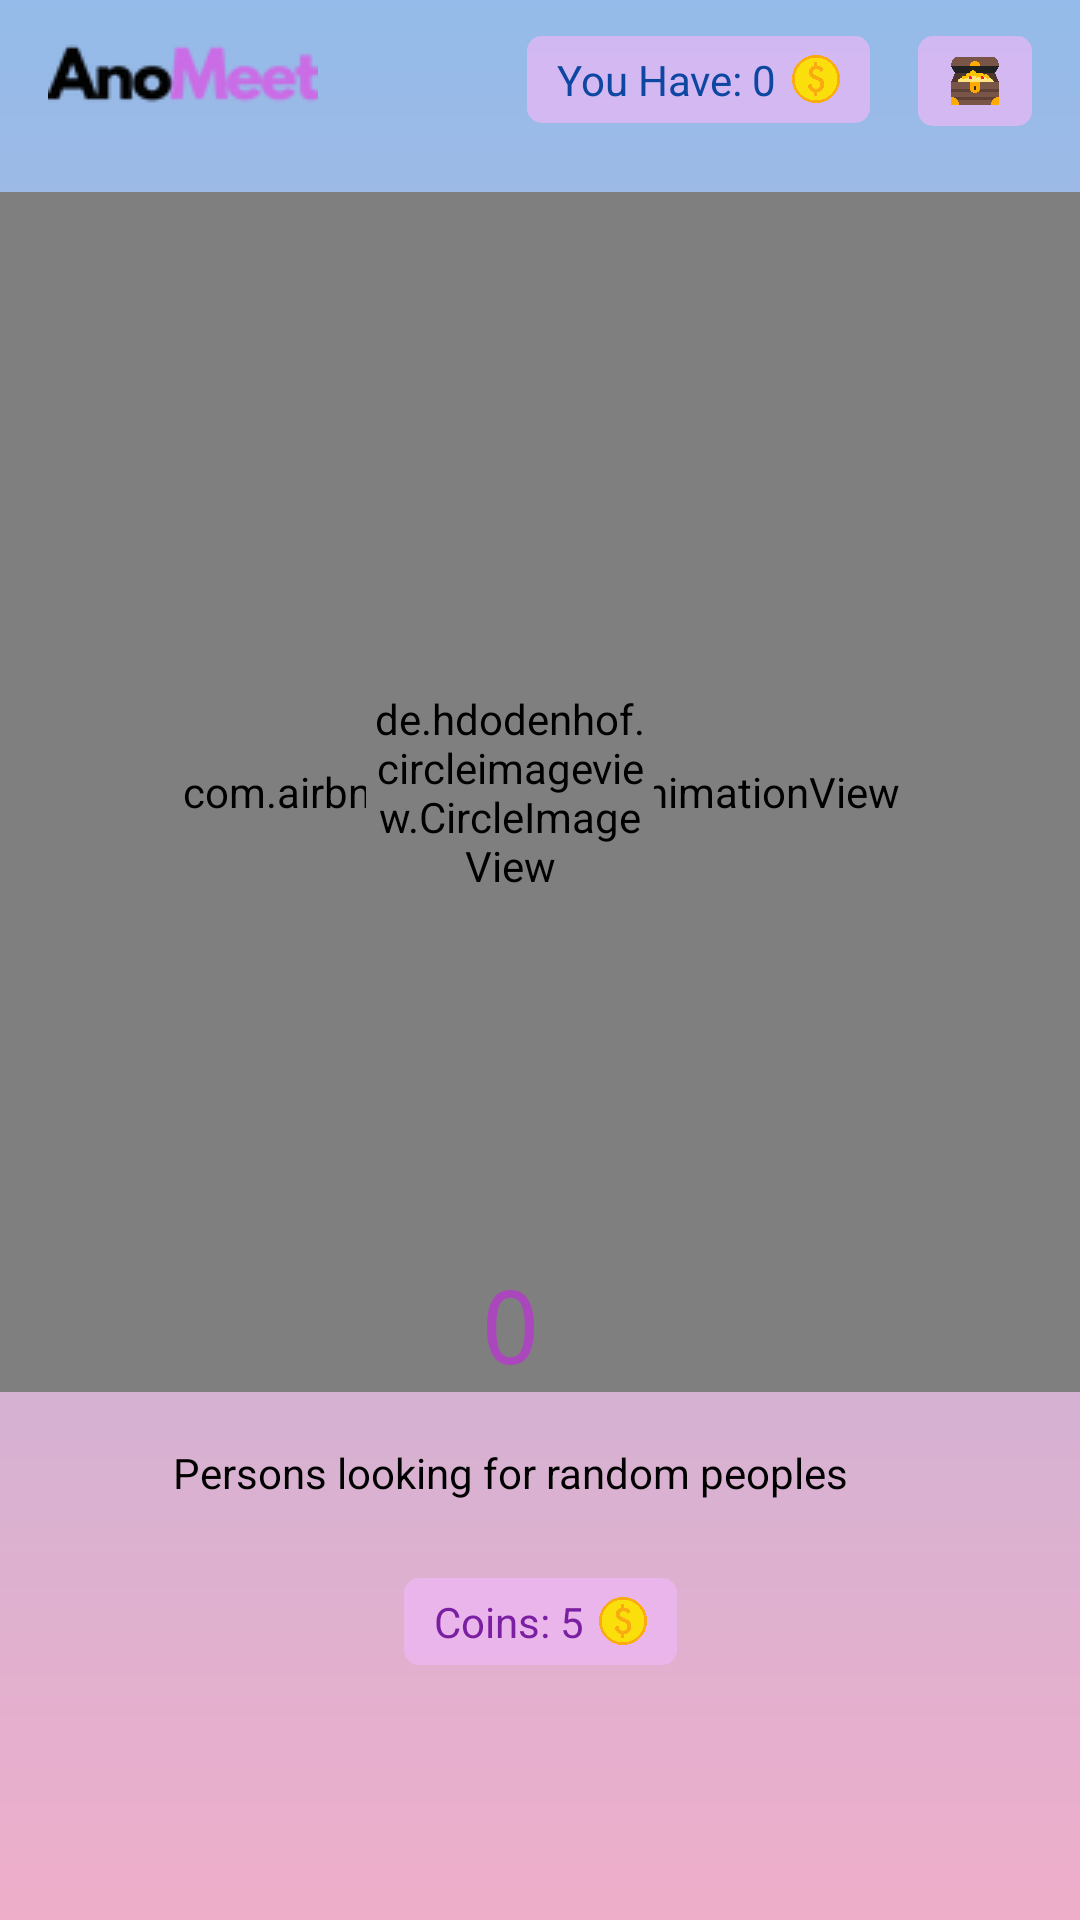

Named icons in this screenshot (1080×1920) and their bounding boxes, (x1, y1, x2, y2):
treasure: (951, 57, 999, 105)
